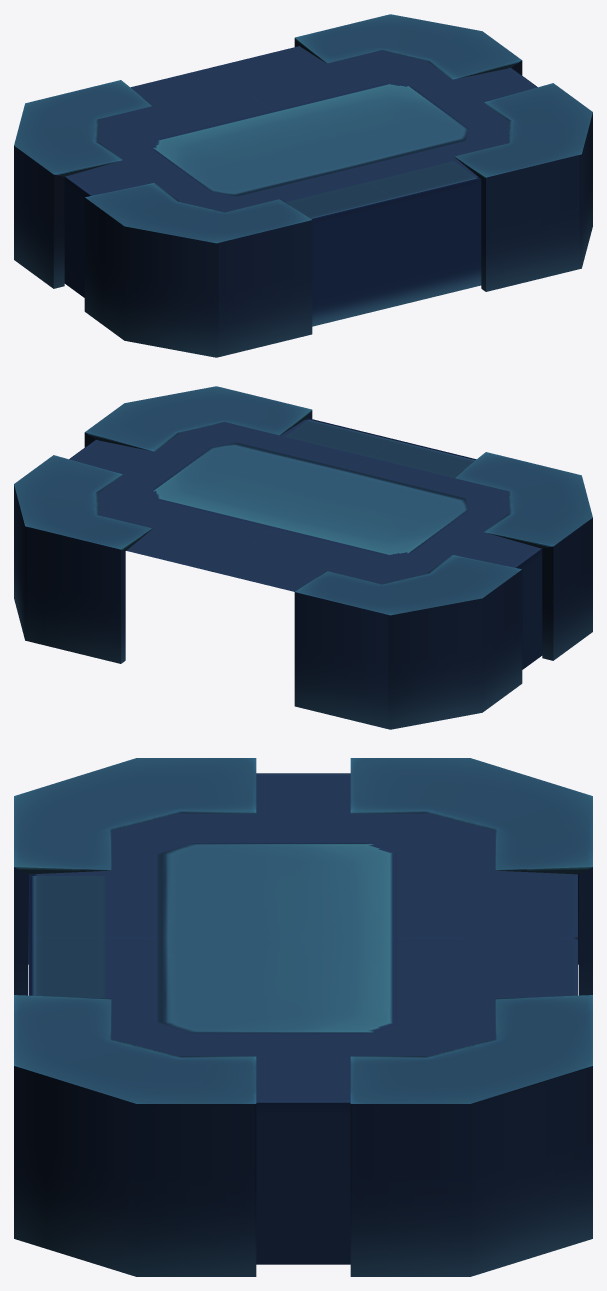
3 renders of one model, top to bottom at view 1: azimuth 30°, elevation 25°; view 2: azimuth 150°, elevation 25°; view 3: azimuth 270°, elevation 25°, orthographic. The views are drawn at different scales.
Visible parts, largest first — view 1: DD; view 2: DD; view 3: DD.
Boxes of the visible parts, box(x1,y1,x2,y2) form: DD: box(14, 14, 592, 357); DD: box(14, 386, 592, 729); DD: box(14, 758, 592, 1276).
Size of the model in its own units: 0.435 by 0.1015 by 0.3078.
Materials: 1 (1 with a texture image).
